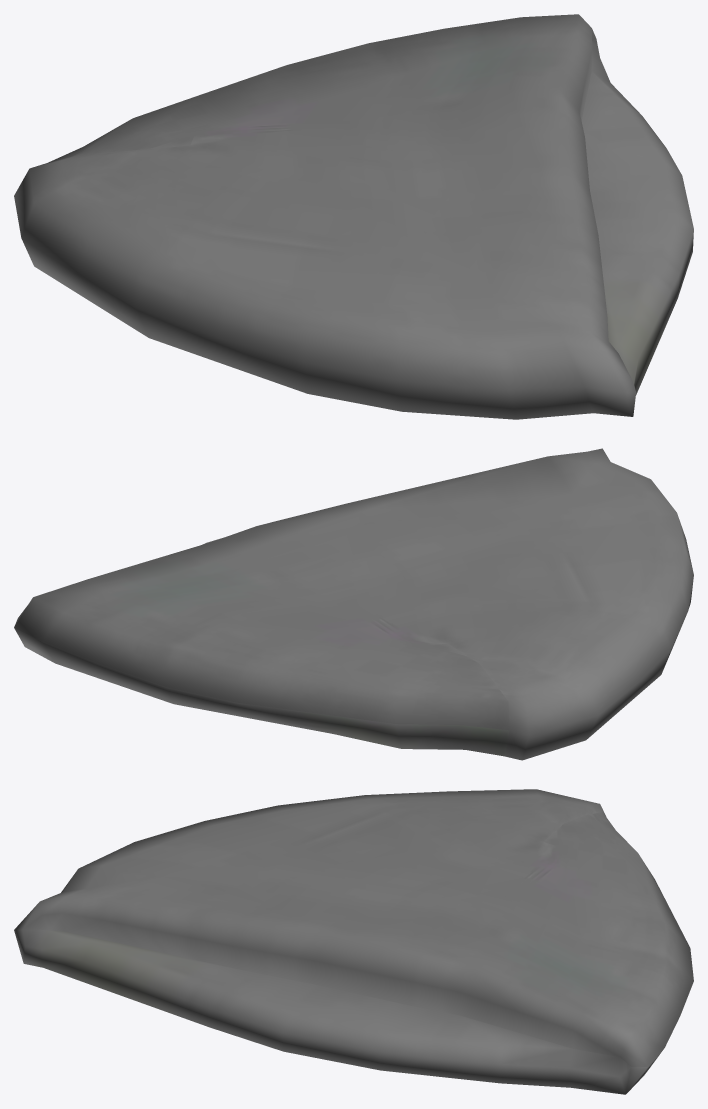
Rendered from player_urban_hat_worldmodel.glb.
3 renders of one model, top to bottom at view 1: azimuth 30°, elevation 25°; view 2: azimuth 150°, elevation 25°; view 3: azimuth 270°, elevation 25°, orthographic. The views are drawn at different scales.
Parts seen in each view (by area): view 1: beanie_folded_LOD0; view 2: beanie_folded_LOD0; view 3: beanie_folded_LOD0.
Part boxes in pixels (x1,y1,x2,y2): beanie_folded_LOD0: (14, 14, 693, 419); beanie_folded_LOD0: (14, 448, 693, 760); beanie_folded_LOD0: (14, 789, 693, 1094).
Size of the model in its own units: 0.1876 by 0.0262 by 0.2071.
Materials: 1 (1 with a texture image).
